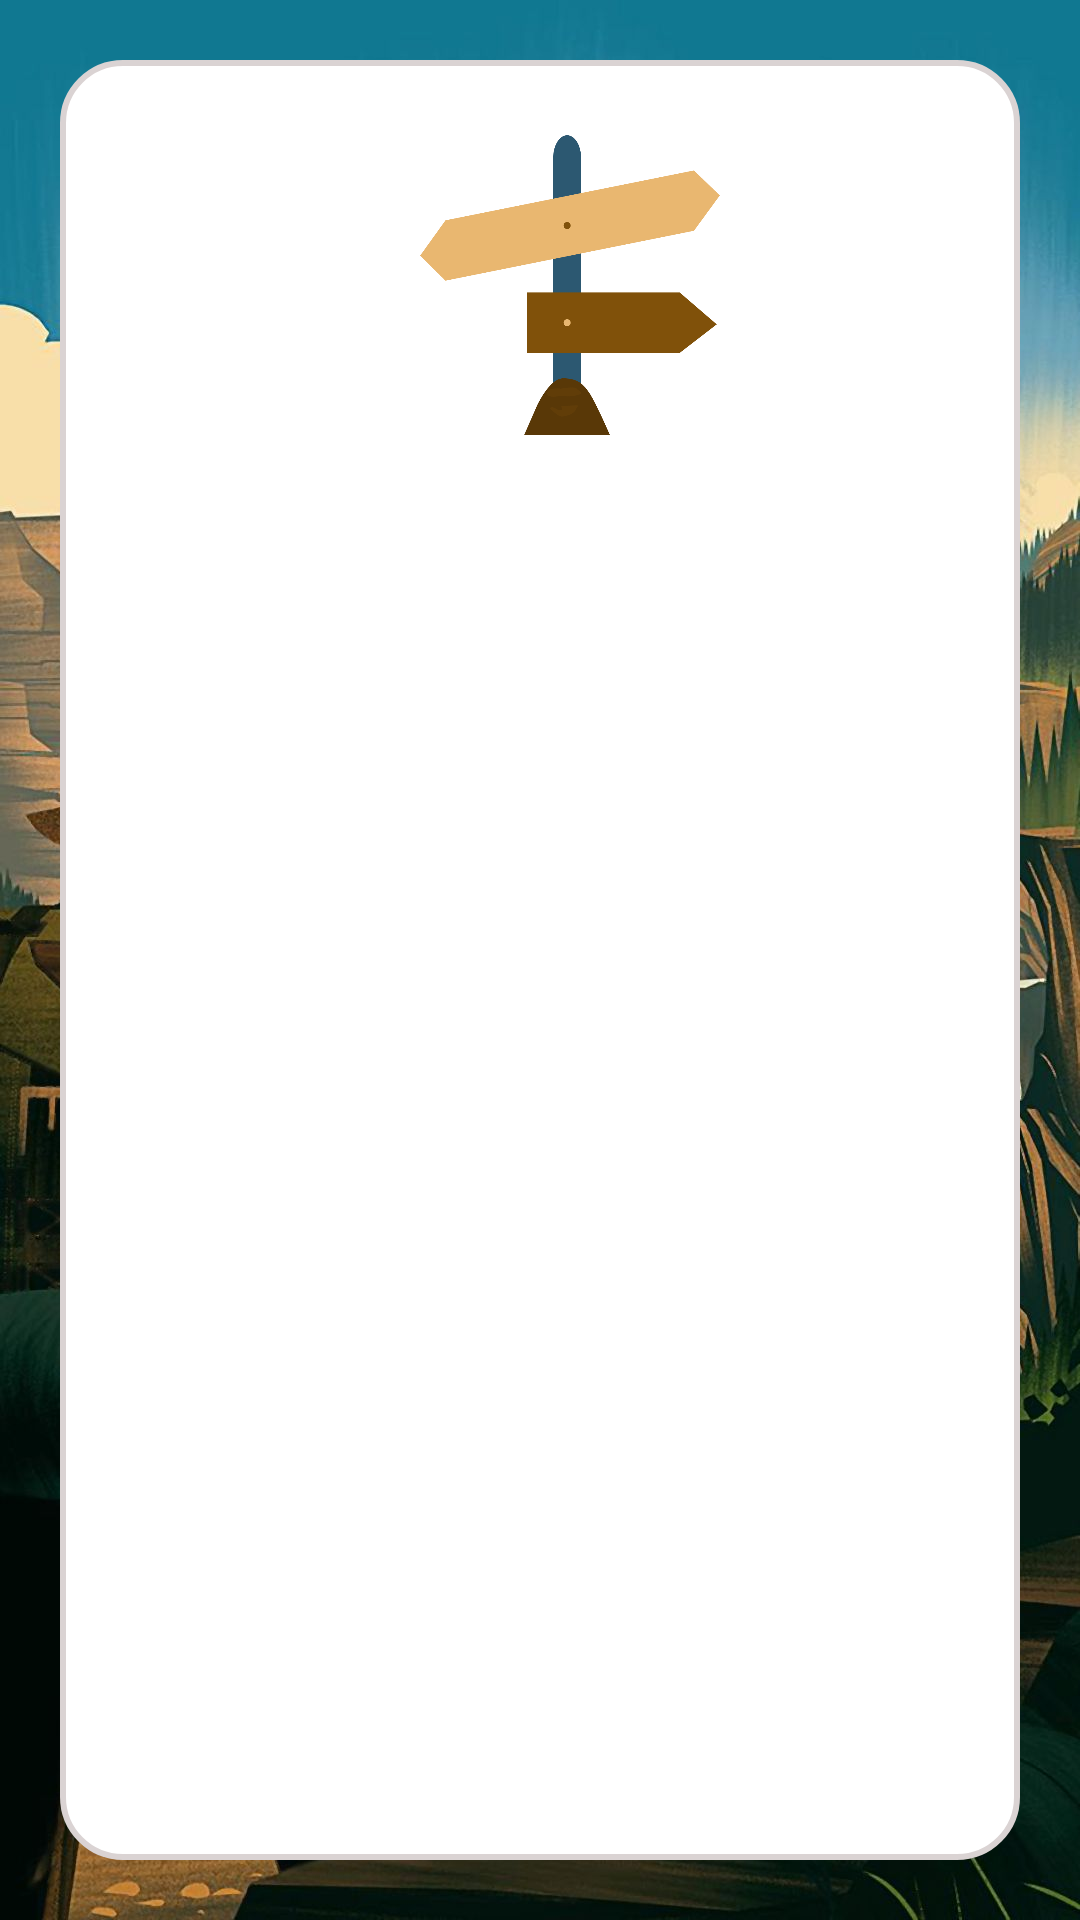

Screen size 1080x1920. Icon name, then its box in pixels as (x1, y1, x2, y2):
instructions: (420, 135, 720, 435)
